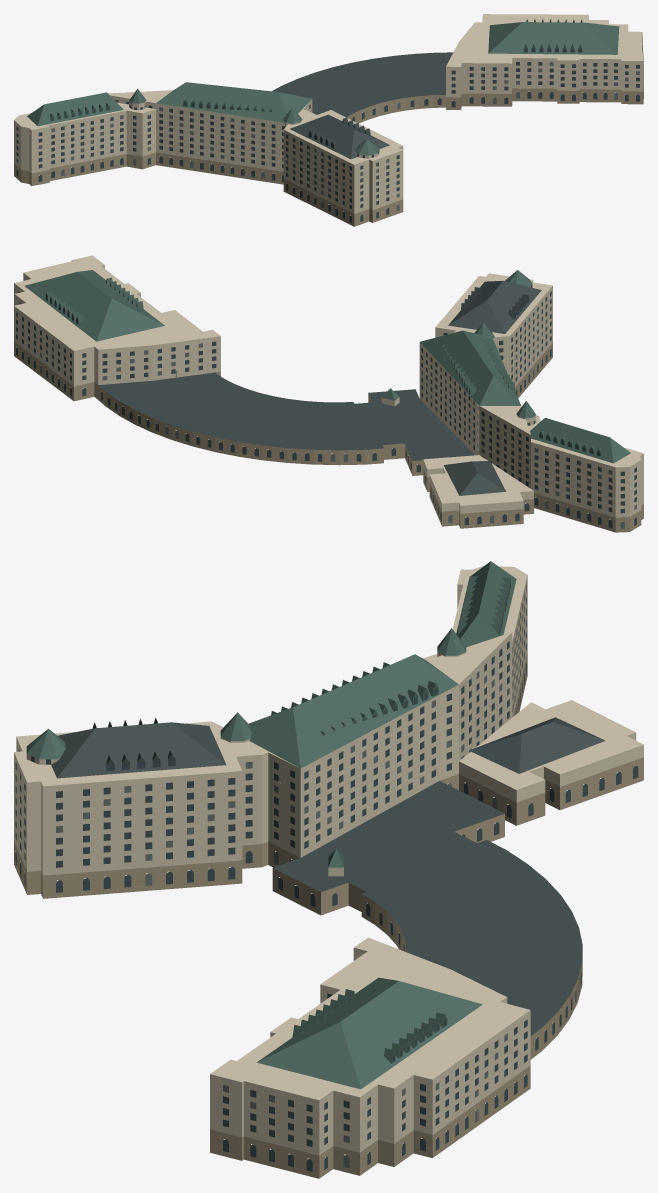
File: fairmont-chateau-lake-louise-far.glb
3 renders of one model, top to bottom at view 1: azimuth 30°, elevation 25°; view 2: azimuth 150°, elevation 25°; view 3: azimuth 270°, elevation 25°, orthographic. The views are drawn at different scales.
Visible parts, largest first — view 1: fairmont-chateau-lake-louise-0-stone, fairmont-chateau-lake-louise-0-copper, fairmont-chateau-lake-louise-0-roof, fairmont-chateau-lake-louise-0-base, fairmont-chateau-lake-louise-0-glass, fairmont-chateau-lake-louise-0-glow; view 2: fairmont-chateau-lake-louise-0-stone, fairmont-chateau-lake-louise-0-roof, fairmont-chateau-lake-louise-0-copper, fairmont-chateau-lake-louise-0-base, fairmont-chateau-lake-louise-0-glass, fairmont-chateau-lake-louise-0-glow; view 3: fairmont-chateau-lake-louise-0-stone, fairmont-chateau-lake-louise-0-roof, fairmont-chateau-lake-louise-0-copper, fairmont-chateau-lake-louise-0-base, fairmont-chateau-lake-louise-0-glass, fairmont-chateau-lake-louise-0-glow.
Part boxes in pixels (x1,y1,x2,y2): fairmont-chateau-lake-louise-0-stone: [14, 14, 643, 214]; fairmont-chateau-lake-louise-0-copper: [27, 19, 619, 155]; fairmont-chateau-lake-louise-0-roof: [272, 52, 574, 185]; fairmont-chateau-lake-louise-0-base: [14, 86, 643, 226]; fairmont-chateau-lake-louise-0-glass: [16, 39, 642, 222]; fairmont-chateau-lake-louise-0-glow: [16, 62, 639, 211]; fairmont-chateau-lake-louise-0-stone: [14, 255, 643, 517]; fairmont-chateau-lake-louise-0-roof: [98, 280, 541, 495]; fairmont-chateau-lake-louise-0-copper: [24, 270, 630, 463]; fairmont-chateau-lake-louise-0-base: [14, 341, 643, 532]; fairmont-chateau-lake-louise-0-glass: [16, 285, 636, 527]; fairmont-chateau-lake-louise-0-glow: [16, 302, 636, 529]; fairmont-chateau-lake-louise-0-stone: [14, 566, 643, 1155]; fairmont-chateau-lake-louise-0-roof: [51, 717, 605, 1036]; fairmont-chateau-lake-louise-0-copper: [26, 561, 516, 1089]; fairmont-chateau-lake-louise-0-base: [14, 653, 643, 1178]; fairmont-chateau-lake-louise-0-glass: [15, 582, 638, 1171]; fairmont-chateau-lake-louise-0-glow: [15, 585, 579, 1168].
Size of the model in its own units: 307 by 40 by 160.
